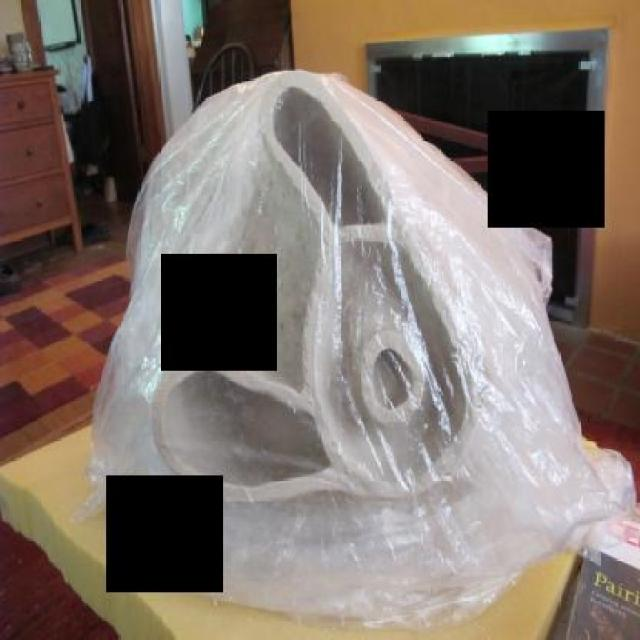plastic bag: (69, 68, 637, 635)
